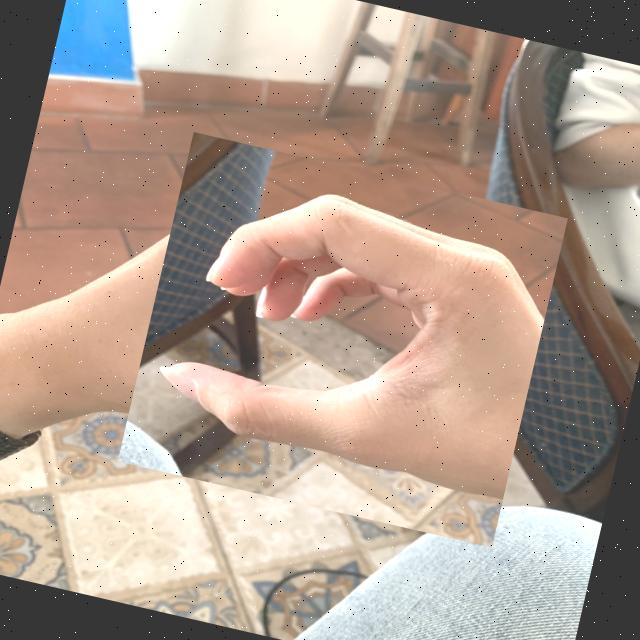no: (117, 132, 568, 548)
